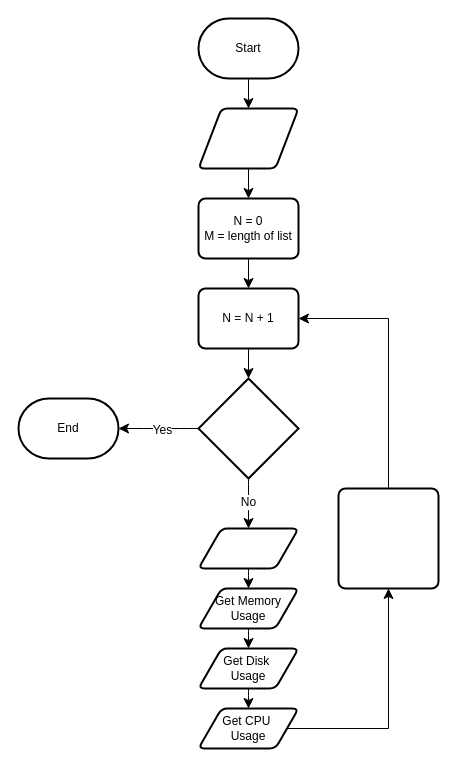
Some shapes in this 456 by 766 pixel diagram are drawn without their labels. Each missing label, with the box of its shape:
Get List of Running Programs: (197, 107, 299, 169)
Get timestamp: (197, 527, 299, 569)
N == M: (197, 377, 299, 479)
Save to Program Usage Database: (337, 487, 439, 589)
